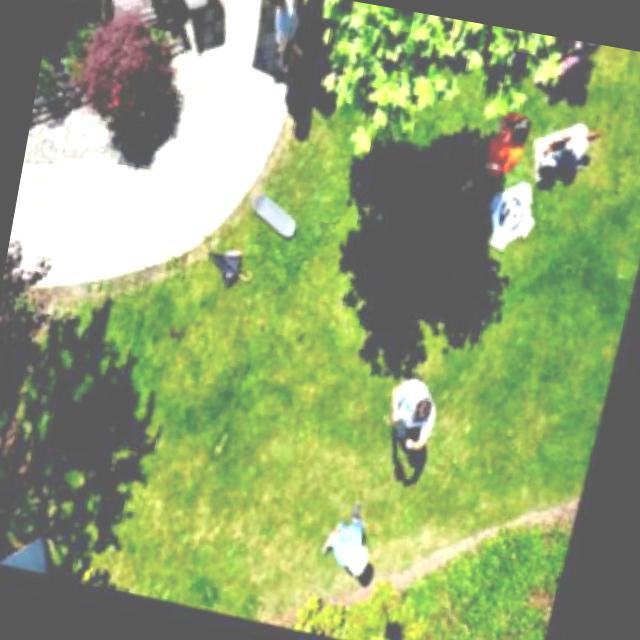Person: (455, 98, 544, 220), (372, 366, 450, 456)
